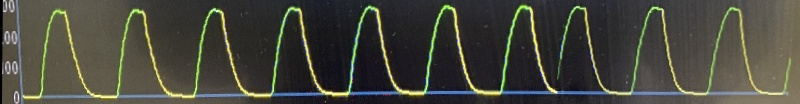normal_volume: (13, 0, 790, 104)
